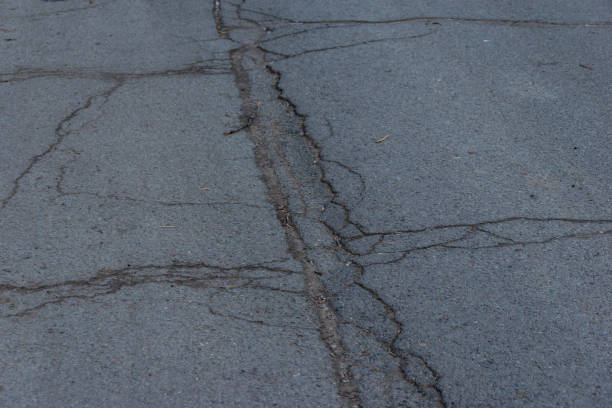Retak Melintang: (18, 31, 560, 408)
